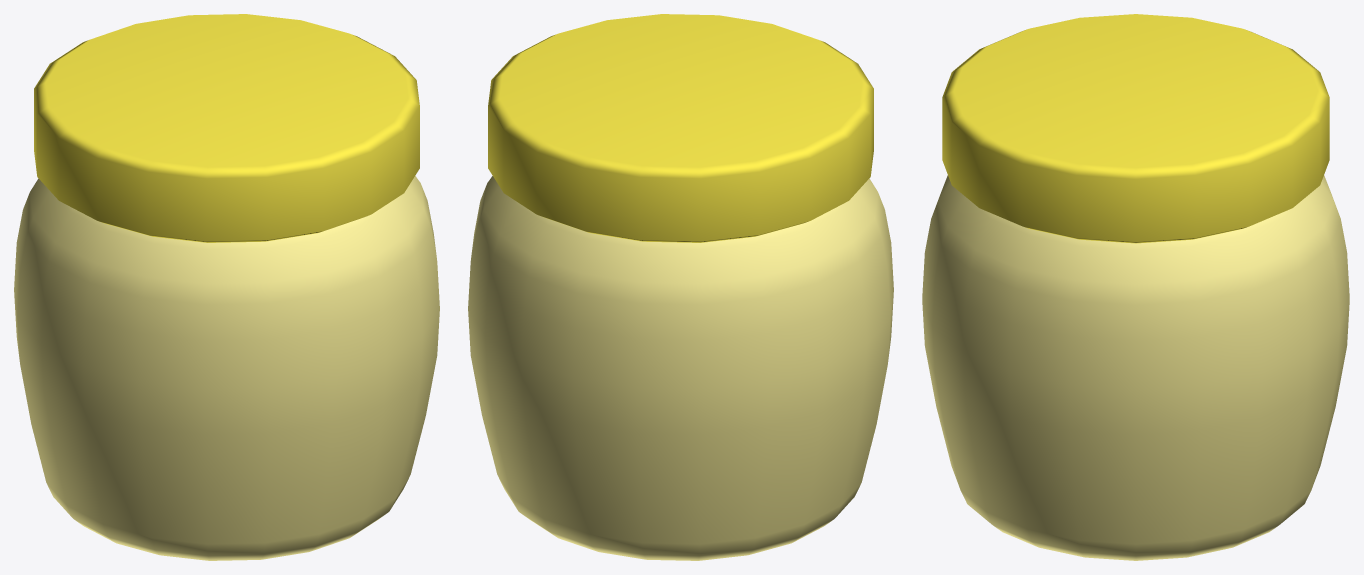
File: Farm_10_Jar_1.glb
The picture shows the model from 3 angles, left to right: view 1: azimuth 30°, elevation 25°; view 2: azimuth 150°, elevation 25°; view 3: azimuth 270°, elevation 25°; orthographic projection.
Parts seen in each view (by area): view 1: Farm_10_Jar_1; view 2: Farm_10_Jar_1; view 3: Farm_10_Jar_1.
Part boxes in pixels (x1,y1,x2,y2): Farm_10_Jar_1: (14,14,439,560); Farm_10_Jar_1: (468,14,893,560); Farm_10_Jar_1: (922,14,1349,560).
Size of the model in its own units: 0.4732 by 0.4905 by 0.4732.
Materials: 1 (1 with a texture image).
